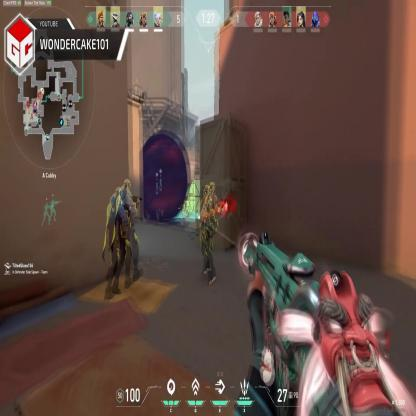enemy: (113, 178, 140, 292), (198, 185, 219, 286), (182, 198, 192, 228)
enemy_head: (124, 179, 132, 194), (208, 183, 215, 195), (184, 201, 188, 209)
